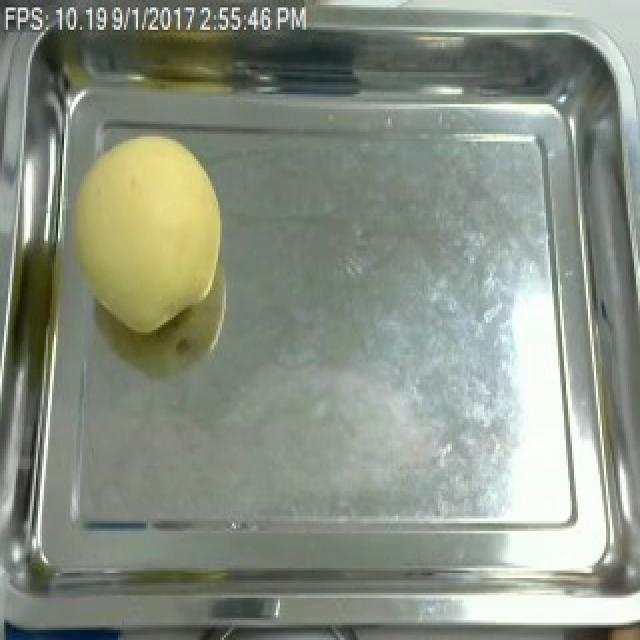Fruit: (56, 121, 232, 342)
